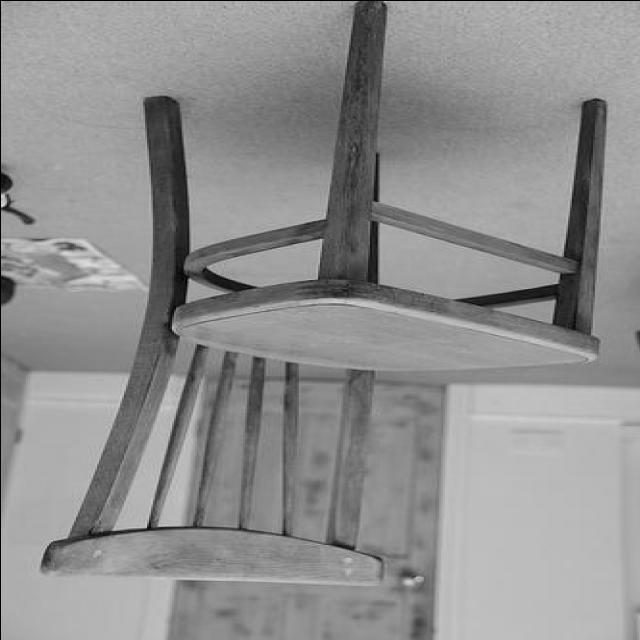chair: (33, 1, 607, 585)
